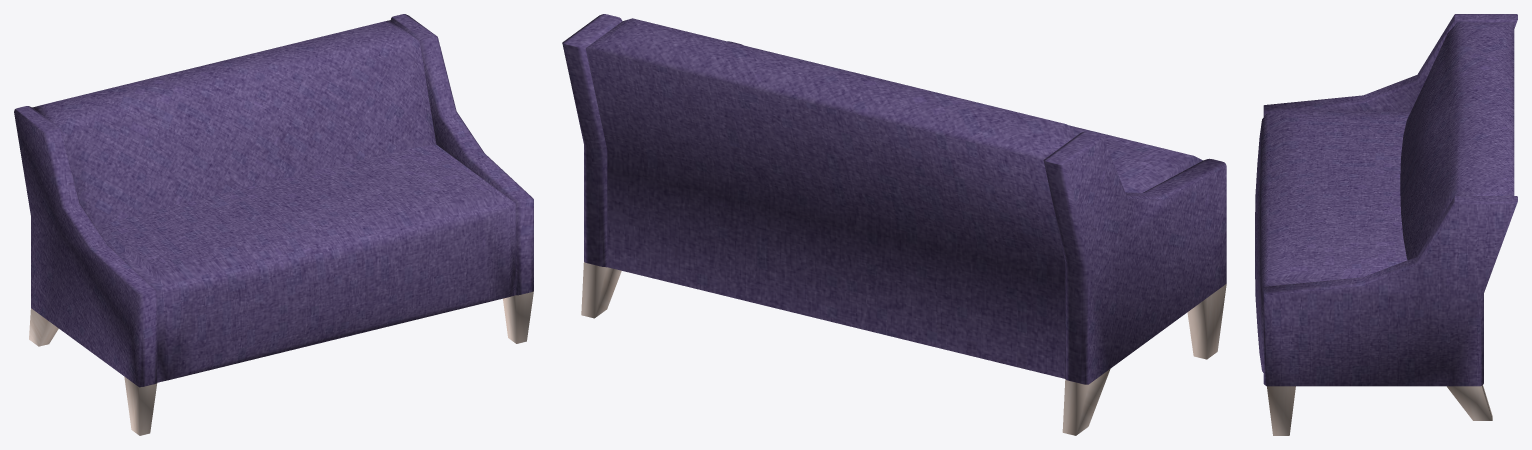
The model's file is couch.fbx.
3 views of the same model, side by side, from view 1: azimuth 30°, elevation 25°; view 2: azimuth 150°, elevation 25°; view 3: azimuth 270°, elevation 25° (orthographic). The views are drawn at different scales.
Parts seen in each view (by area): view 1: Cube; view 2: Cube; view 3: Cube.
Part boxes in pixels (x1,y1,x2,y2): Cube: (14,14,533,435); Cube: (562,14,1226,435); Cube: (1255,14,1517,435).
Bounding box in the file's own units: 1.35 × 0.8014 × 0.7868.
Materials: 1 (1 with a texture image).
